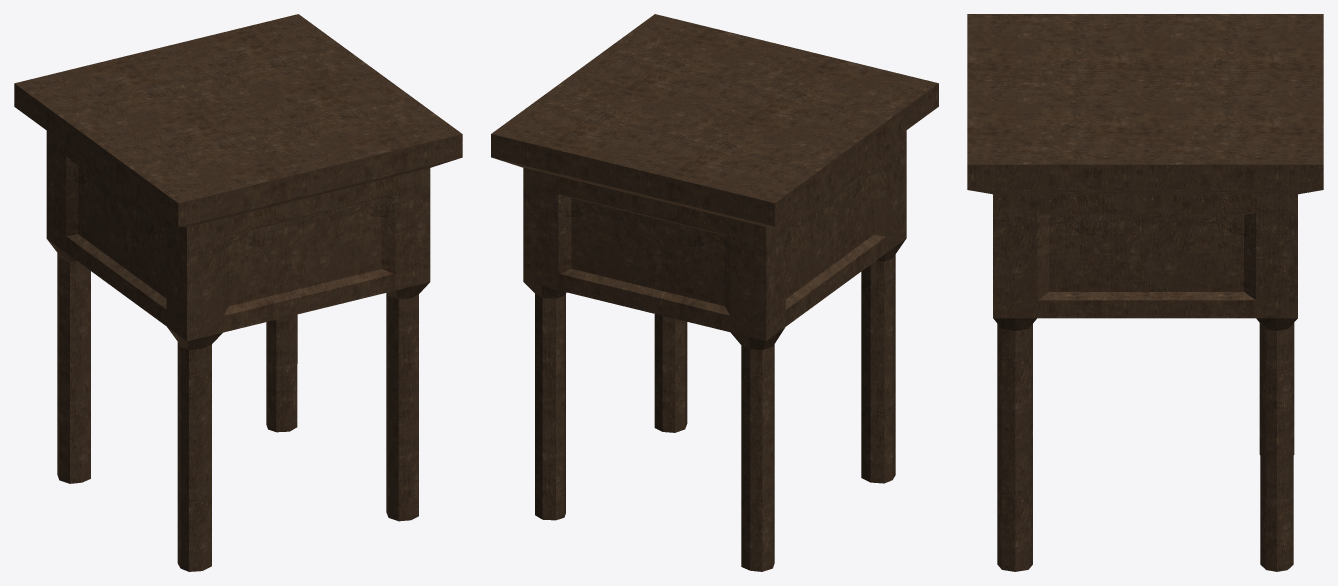
Rendered from Tisschen.fbx.
3 renders of one model, left to right at view 1: azimuth 30°, elevation 25°; view 2: azimuth 150°, elevation 25°; view 3: azimuth 270°, elevation 25°, orthographic. The views are drawn at different scales.
Visible parts, largest first — view 1: Tischchen; view 2: Tischchen; view 3: Tischchen.
Part boxes in pixels (x1,y1,x2,y2): Tischchen: [14, 14, 462, 571]; Tischchen: [491, 14, 938, 571]; Tischchen: [967, 14, 1323, 571].
Size of the model in its own units: 131 by 171 by 131.
Materials: 1 (1 with a texture image).
